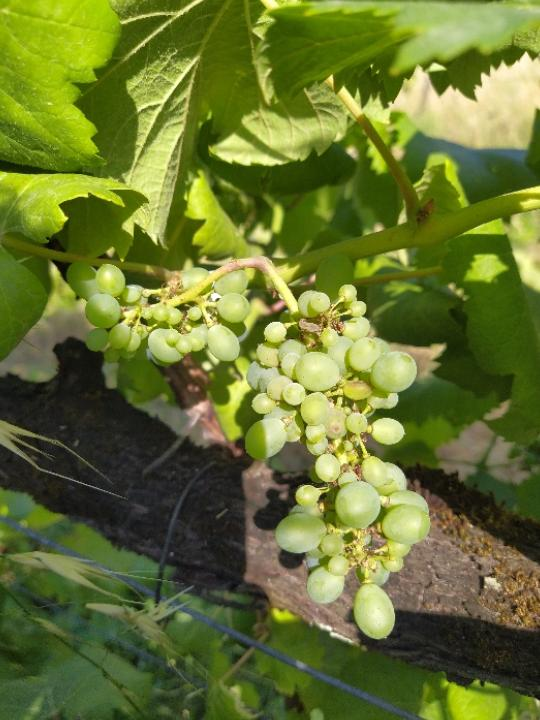grape: (65, 247, 439, 645)
